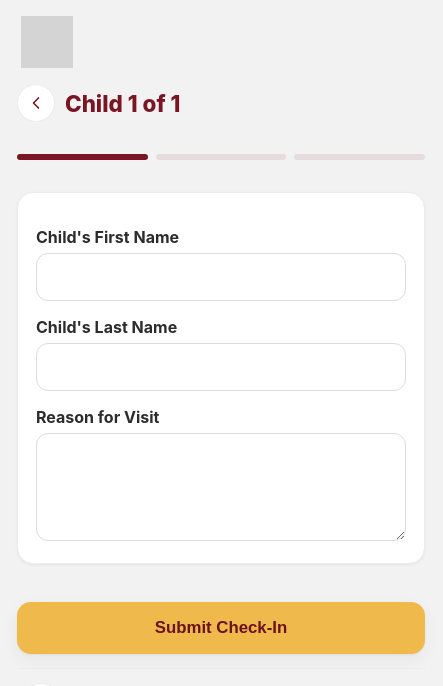
Test case: ChildPage › shows validation message when child fields are incomplete
This screenshot has width=443, height=686.
Click the button "Submit Check-In" at (221, 628), box [17,602,425,654]
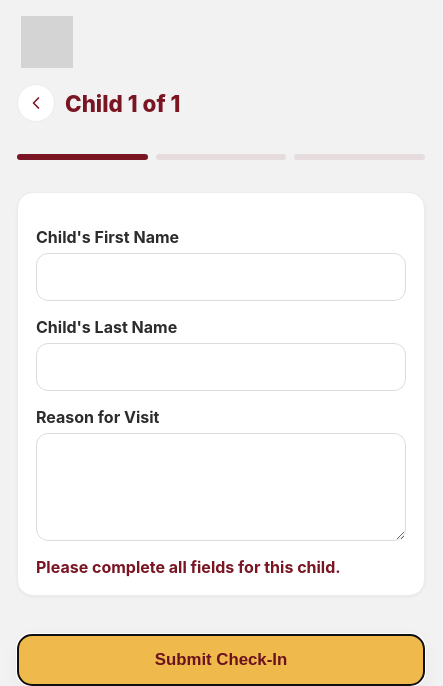
Expected: the text "Please complete all fields for this child." is shown, [36,557,341,577]
